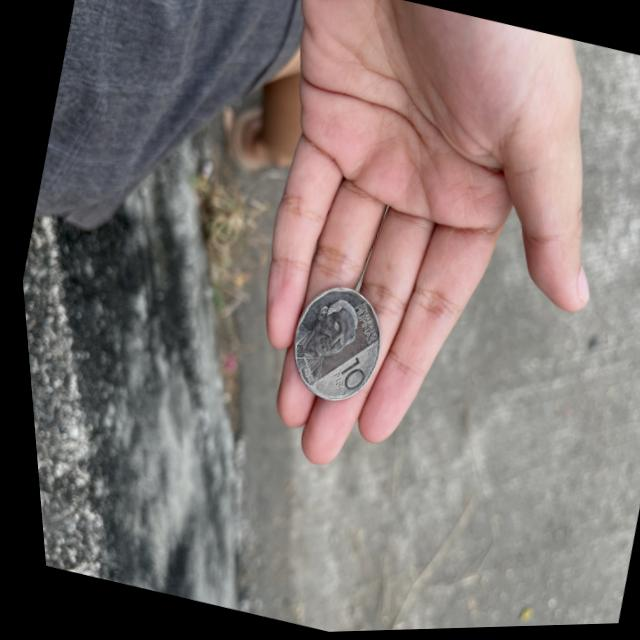10_New_Front: (308, 344, 375, 416)
